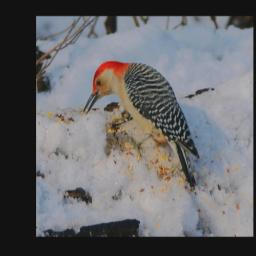Woodpecker: (83, 60, 203, 195)
